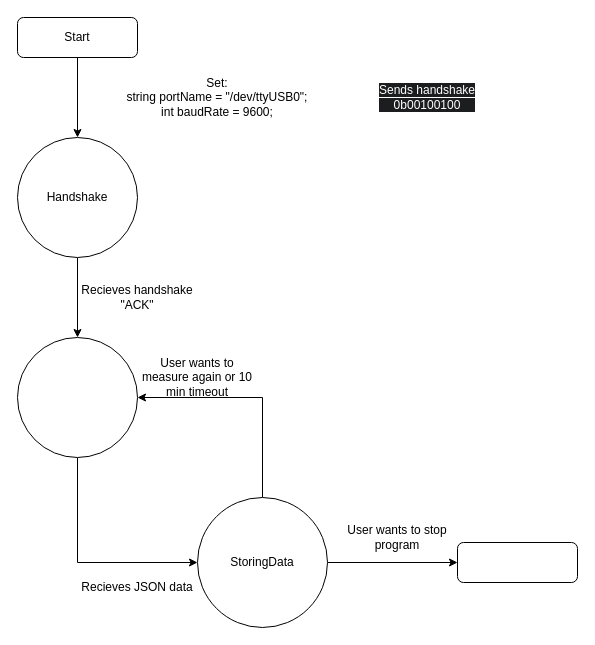
The diagram is 595 pixels wide and 645 high, and some of its shapes have lost their labels. The centre of each missing label's shape, as x and y in pixels:
Exit: the point at 517,562
MeasureSensors 0b10100101: the point at 77,397
